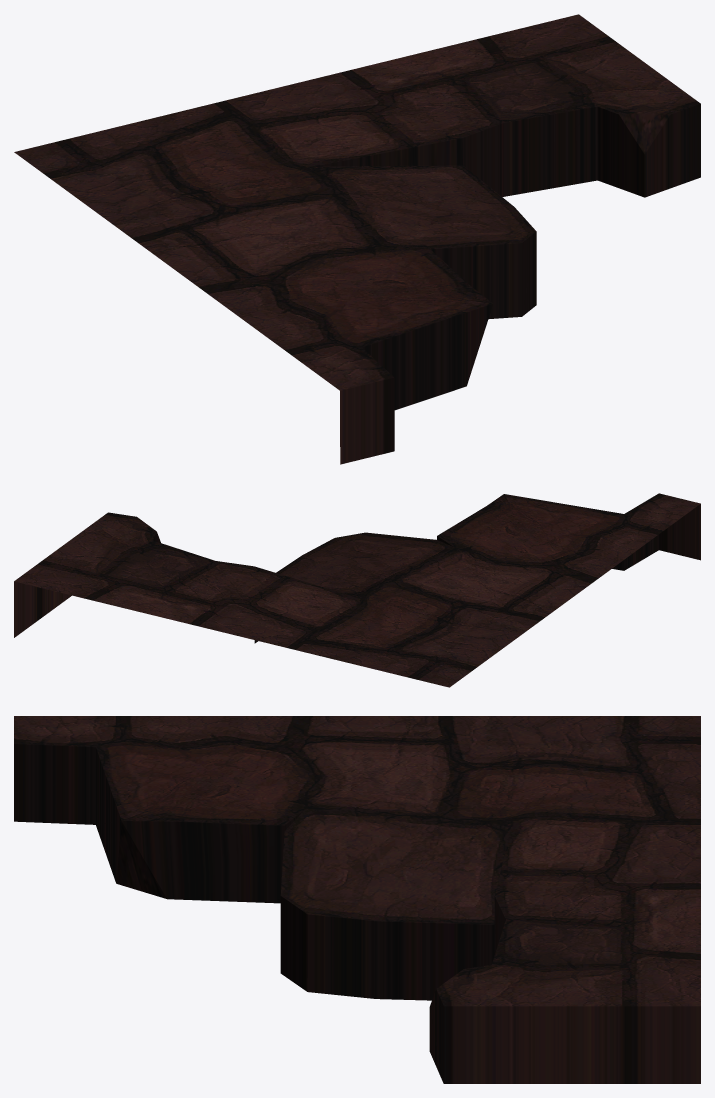
Rendered from lava_floor_brokendiagonal_01.fbx.
The picture shows the model from 3 angles, top to bottom: view 1: azimuth 30°, elevation 25°; view 2: azimuth 150°, elevation 25°; view 3: azimuth 270°, elevation 25°; orthographic projection. The views are drawn at different scales.
Visible parts, largest first — view 1: lava_tileset/lava_floor01; view 2: lava_tileset/lava_floor01; view 3: lava_tileset/lava_floor01.
Part boxes in pixels (x1=…): lava_tileset/lava_floor01: x1=14, y1=14, x2=700, y2=464; lava_tileset/lava_floor01: x1=14, y1=493, x2=700, y2=687; lava_tileset/lava_floor01: x1=14, y1=716, x2=700, y2=1083.
Size of the model in its own units: 4 by 0.6812 by 4.
